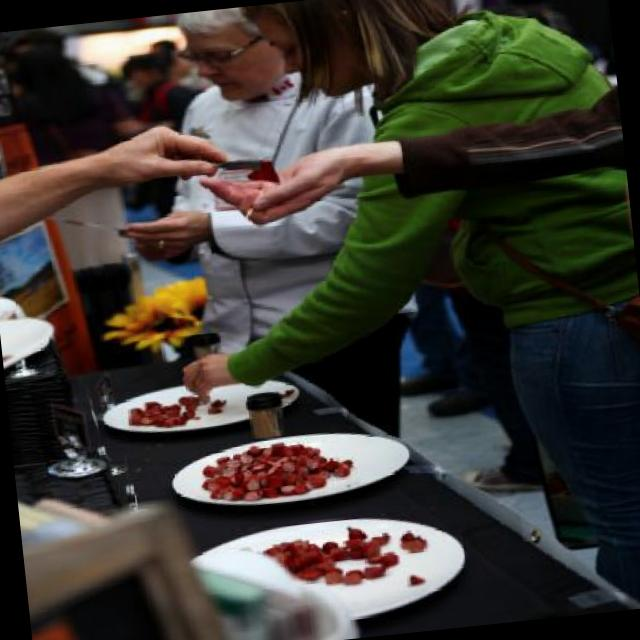Person: (140, 0, 640, 639), (193, 80, 640, 633), (88, 0, 418, 475), (7, 55, 188, 322), (0, 117, 245, 249), (414, 292, 532, 495)
